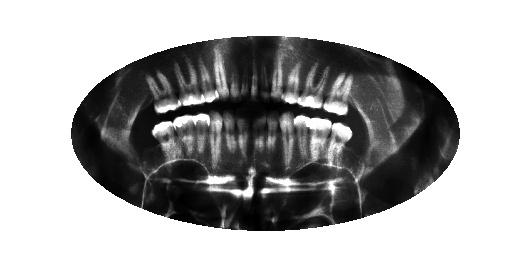i10healthy: (219, 103, 238, 170)
i11chipped: (205, 104, 224, 172)
i12healthy: (193, 102, 212, 174)
i13healthy: (171, 106, 197, 171)
i14healthy: (148, 118, 183, 169)
i3healthy: (325, 116, 355, 178)
i4healthy: (303, 108, 334, 169)
i5healthy: (289, 108, 313, 165)
i6healthy: (277, 105, 298, 173)
i7healthy: (263, 103, 281, 173)
i8healthy: (249, 104, 269, 175)
i9healthy: (234, 101, 251, 163)
u10healthy: (227, 56, 241, 101)
u11healthy: (210, 49, 231, 103)
u12healthy: (195, 52, 220, 105)
u13healthy: (172, 55, 206, 107)
u14healthy: (141, 67, 183, 115)
u3healthy: (320, 61, 356, 119)
u4healthy: (296, 53, 331, 112)
u5healthy: (281, 56, 303, 107)
u6healthy: (270, 53, 283, 102)
u7decay: (254, 53, 271, 103)
u8healthy: (247, 54, 260, 103)
u9chipped: (238, 56, 252, 103)
